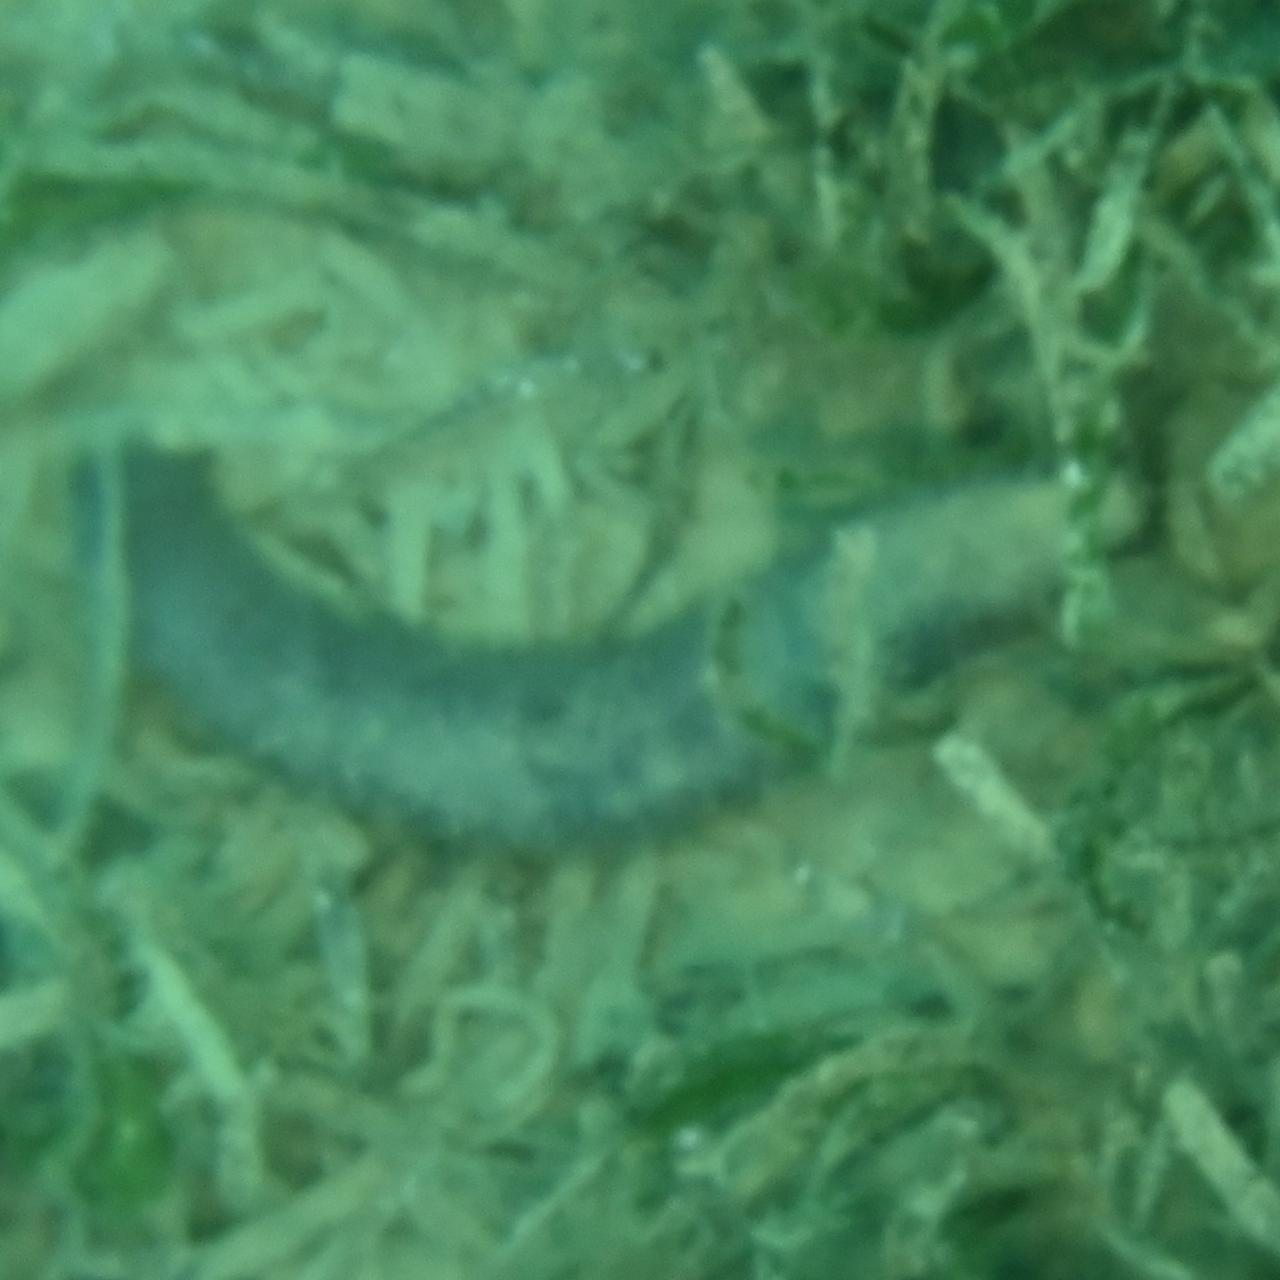Holothuria tubulosa: (66, 426, 1214, 854)
